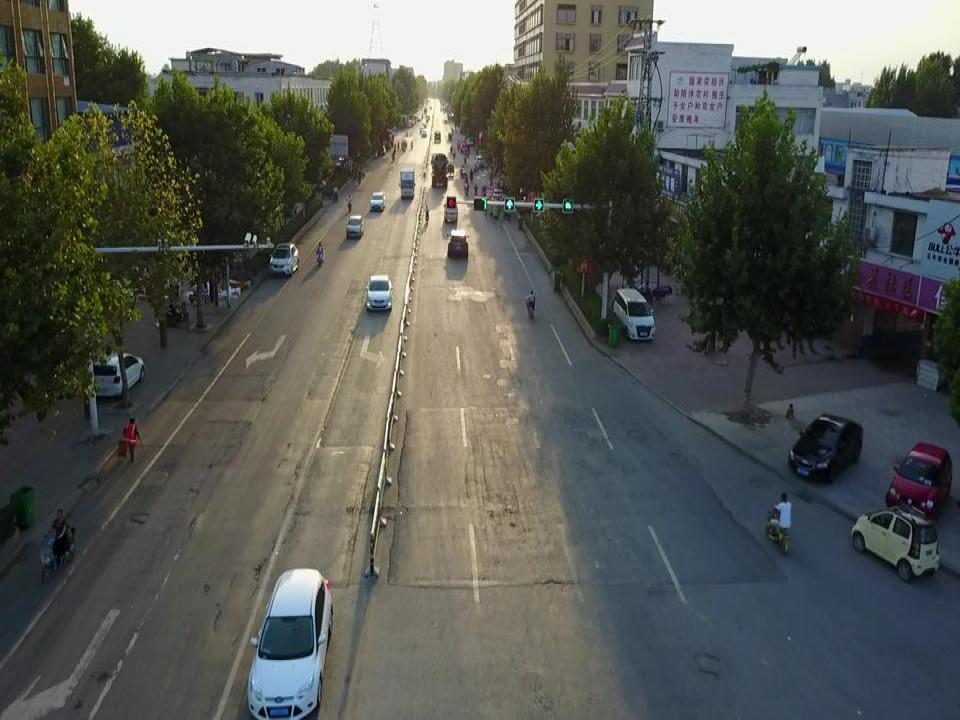car: (246, 566, 334, 720), (851, 505, 940, 583), (788, 415, 863, 482), (886, 441, 953, 516), (93, 352, 145, 396), (613, 287, 655, 341), (269, 243, 300, 276), (366, 274, 393, 310), (446, 229, 469, 259), (346, 214, 364, 238), (369, 192, 385, 211), (434, 131, 441, 144)
truck: (431, 153, 447, 188), (399, 168, 415, 199)
van: (443, 201, 458, 224)
